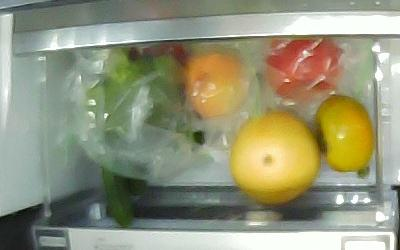apple_vinyl: (264, 38, 342, 99)
broccoli_vinyl: (106, 53, 182, 145)
cucumber_vinyl: (93, 74, 132, 227)
grapefruit: (231, 112, 319, 204)
peach_vinyl: (187, 52, 248, 117)
persimmon: (314, 95, 374, 172)
